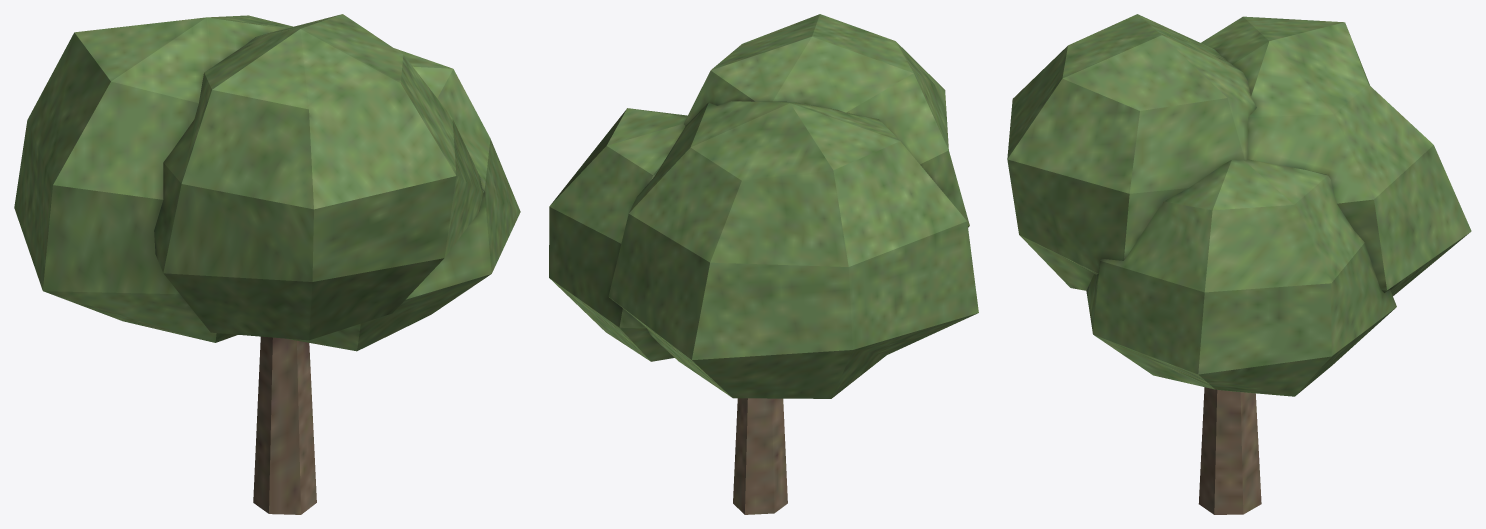
File: SM_Tree_Oak_A.fbx
3 views of the same model, side by side, from view 1: azimuth 30°, elevation 25°; view 2: azimuth 150°, elevation 25°; view 3: azimuth 270°, elevation 25° (orthographic). The views are drawn at different scales.
Visible parts, largest first — view 1: SM_Tree_Oak_A; view 2: SM_Tree_Oak_A; view 3: SM_Tree_Oak_A.
Boxes of the visible parts, x1,y1,x2,y2 form: SM_Tree_Oak_A: (14, 14, 520, 514); SM_Tree_Oak_A: (549, 14, 978, 514); SM_Tree_Oak_A: (1007, 14, 1471, 514).
Bounding box in the file's own units: 721 × 752 × 688.
Materials: 1 (1 with a texture image).
